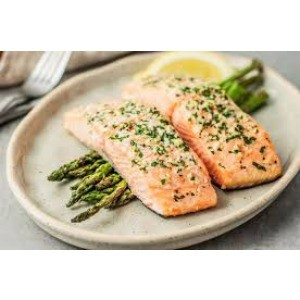salmon_brain food: (74, 70, 253, 209)
